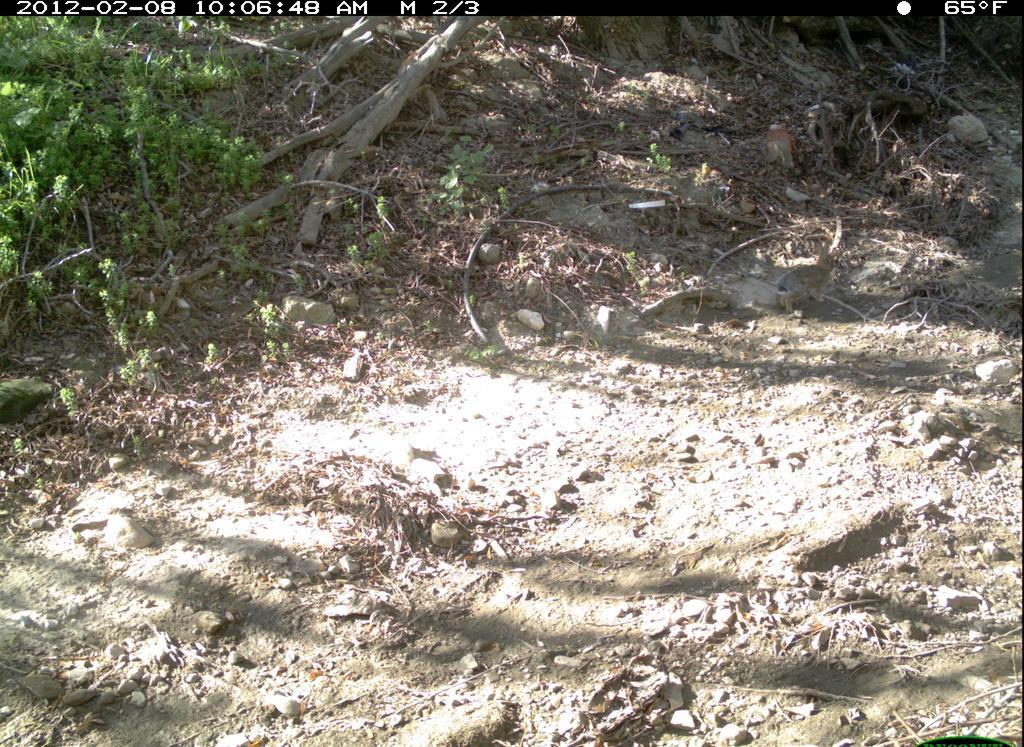rabbit: (768, 222, 849, 325)
